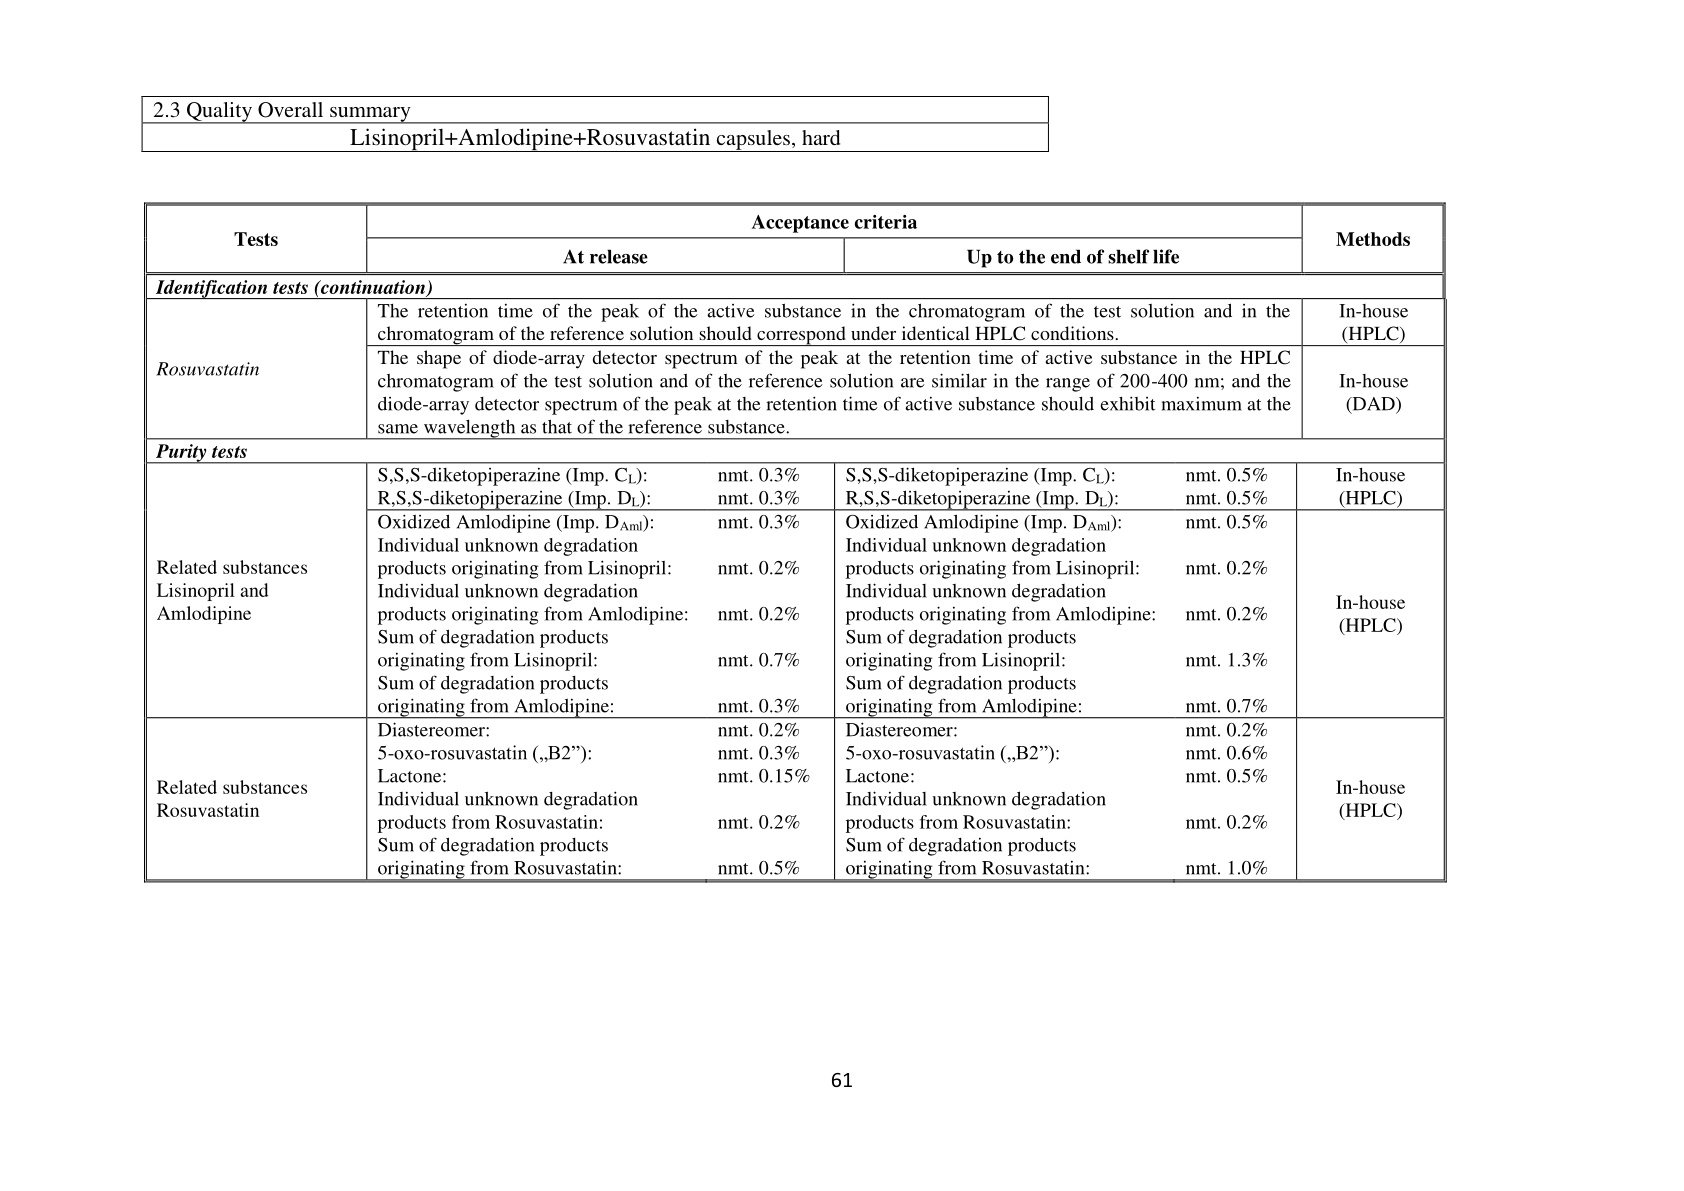full_lined: (140, 94, 1049, 153)
merged_cells: (143, 200, 1448, 886)
